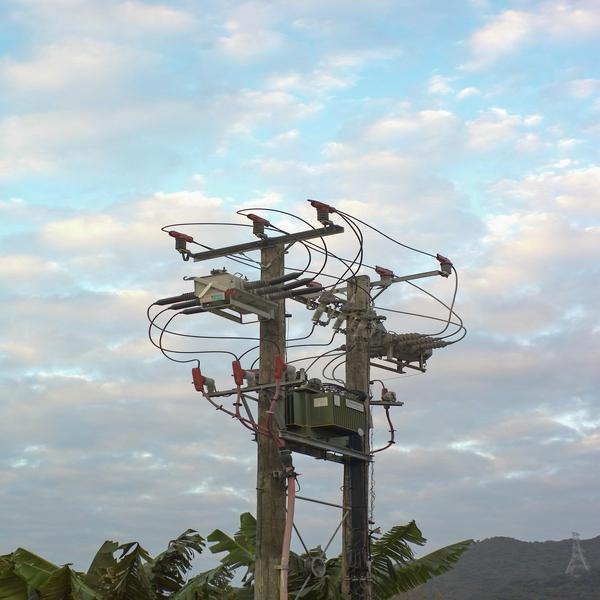utility_pole: (142, 194, 344, 417), (307, 246, 466, 391)
